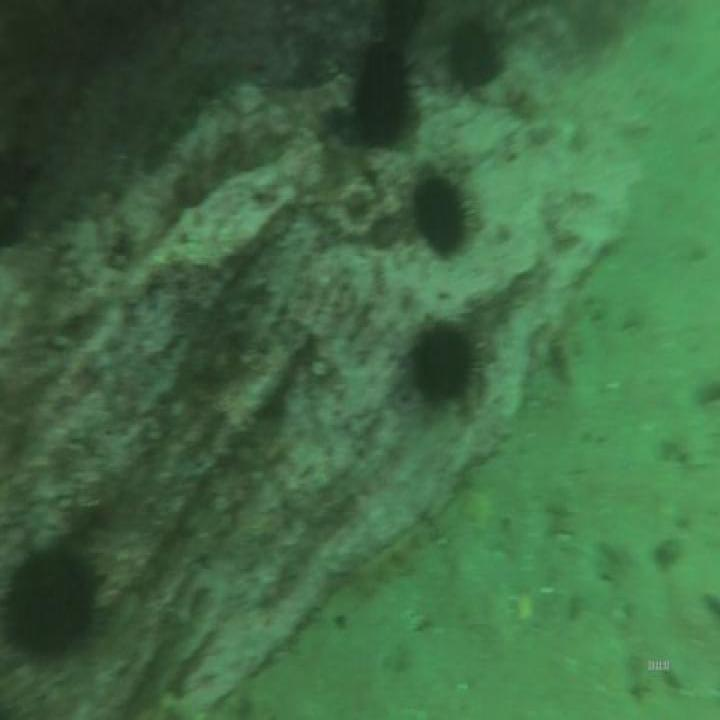echinus: (2, 537, 104, 670), (349, 34, 429, 154), (408, 310, 480, 422), (409, 169, 481, 265), (449, 12, 509, 102)
